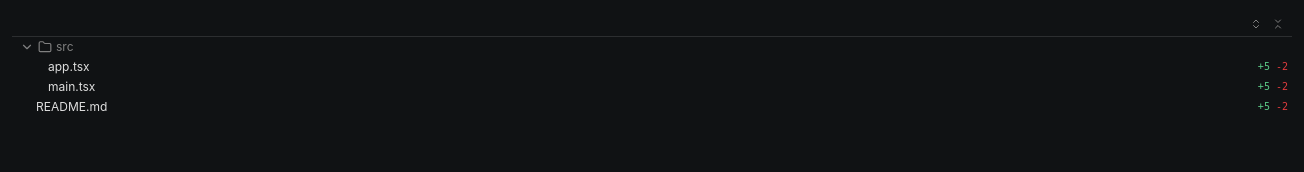
Test: DiffFileTree › Expand All / Collapse All in branch-base mode › should re-expand all folders when Expand All is clicked after collapse
Click the button named "Collapse All": (1278, 24) 1268,14 -> 1288,34
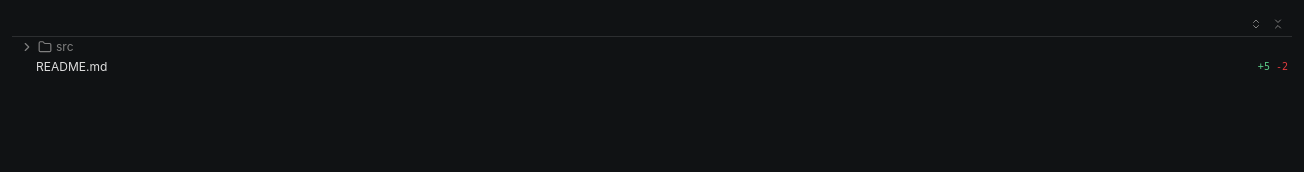
Check: the button "app.tsx" is gone
Click the button named "Expand All": (1256, 24) 1246,14 -> 1266,34
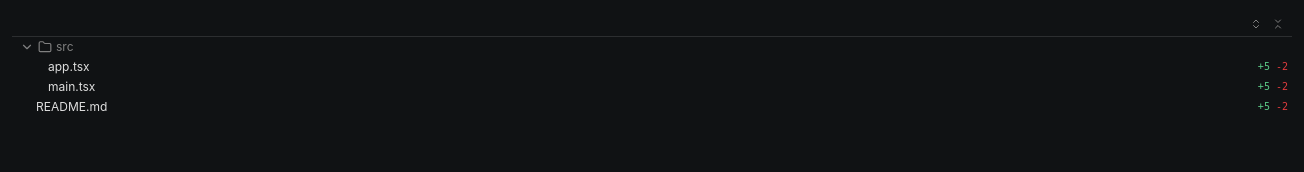
Check: the text "app.tsx" is shown, box 48,59 -> 90,75
